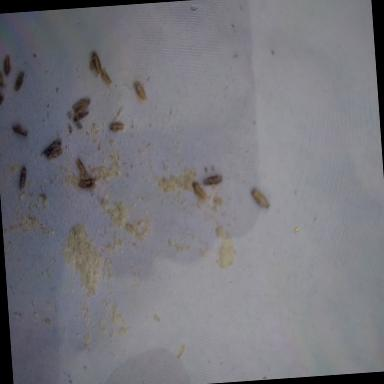pbw: (250, 185, 270, 210), (128, 80, 148, 104), (72, 97, 92, 115), (192, 181, 208, 201), (44, 140, 62, 157), (90, 52, 103, 74), (18, 168, 28, 192), (100, 68, 112, 88), (14, 72, 26, 91), (204, 174, 223, 186), (12, 124, 28, 138), (48, 146, 65, 159), (75, 157, 87, 175), (0, 65, 8, 90), (74, 110, 90, 122), (3, 55, 12, 76), (78, 178, 94, 188), (110, 122, 124, 132), (0, 91, 5, 112)
